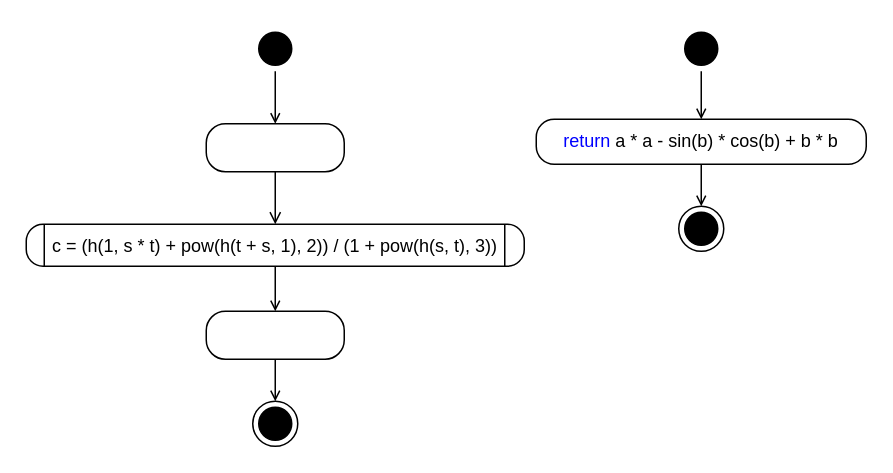
Some shapes in this 893 by 473 pixel diagram are drawn without their labels. Here are the shapes that lost their labels. From the top down, the centre of each, then its label:
At (274,147): "Ввід a, b".
At (274,334): "Вивід c".
